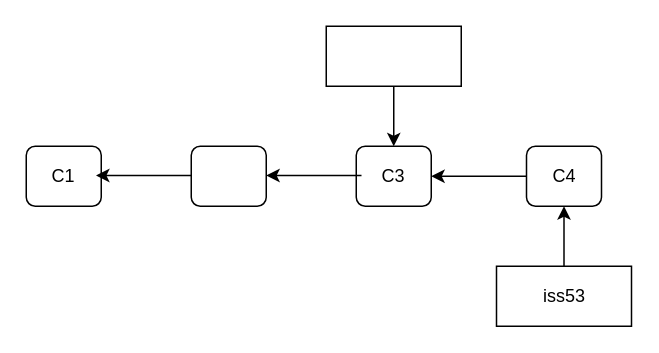
The diagram is 659 pixels wide and 353 high, and some of its shapes have lost their labels. Here are the shapes that lost their labels. From the top down, the centre of each, then its label:
At (x=393, y=55): "master".
At (x=228, y=175): "C2".
